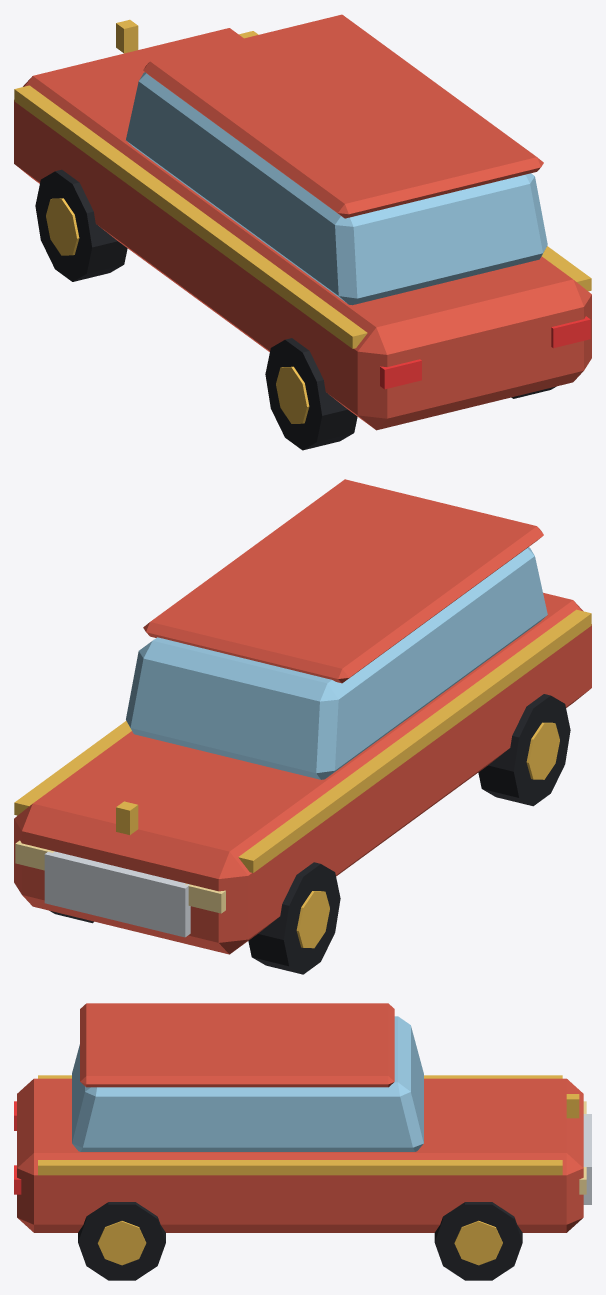
The model's file is luxury.glb.
3 views of the same model, one above another, from view 1: azimuth 30°, elevation 25°; view 2: azimuth 150°, elevation 25°; view 3: azimuth 270°, elevation 25° (orthographic). The views are drawn at different scales.
Parts seen in each view (by area): view 1: Body, Wheel_1L, Wheel_0L; view 2: Body, Wheel_1L, Wheel_0L; view 3: Body, Wheel_0R, Wheel_1R.
Boxes of the visible parts, x1,y1,x2,y2 form: Body: [14, 14, 591, 430]; Wheel_1L: [265, 338, 357, 450]; Wheel_0L: [35, 169, 127, 281]; Body: [14, 479, 591, 954]; Wheel_1L: [478, 694, 570, 806]; Wheel_0L: [248, 862, 340, 974]; Body: [14, 1003, 591, 1232]; Wheel_0R: [434, 1202, 522, 1280]; Wheel_1R: [78, 1202, 165, 1280].
Bounding box in the file's own units: 1.08 × 1.02 × 2.75.
1 material, 1 textured.
